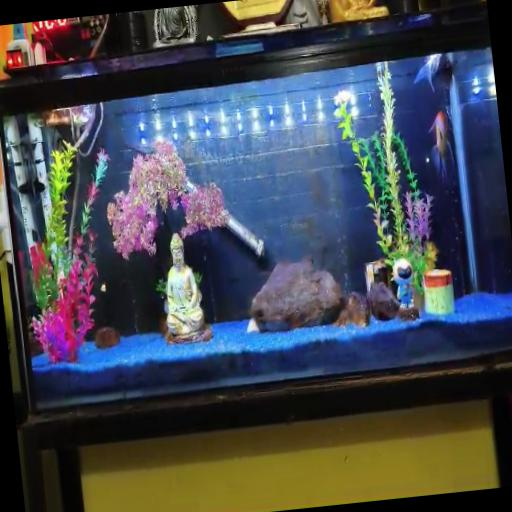Fish: (429, 111, 453, 181), (414, 54, 451, 92), (99, 283, 106, 292)
